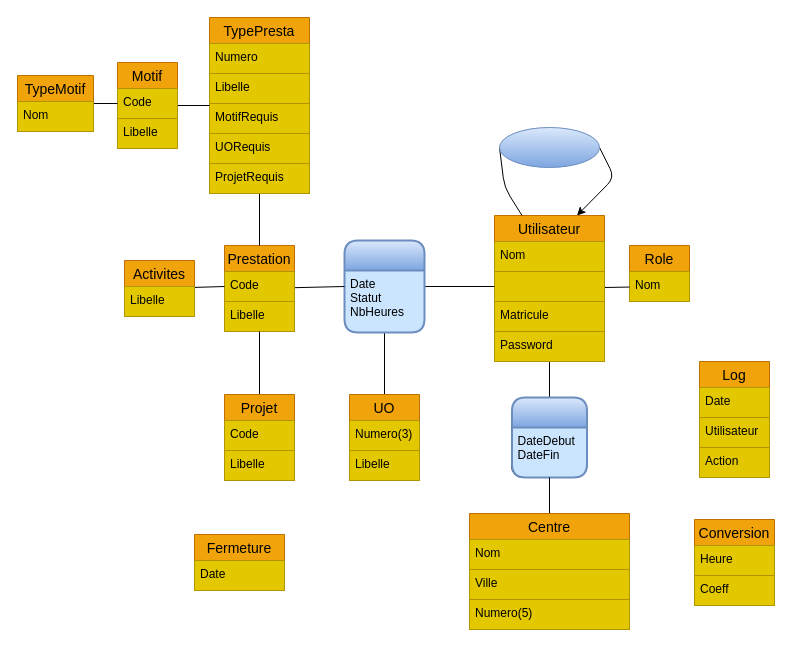
The diagram is 792 pixels wide and 650 high, and some of its shapes have lost their labels. Each missing label, with the centre of its shape:
"Actif" goes at point (549, 286).
"Contrat" goes at point (549, 437).
"Manage" goes at point (549, 147).
"Pointage" goes at point (384, 286).
